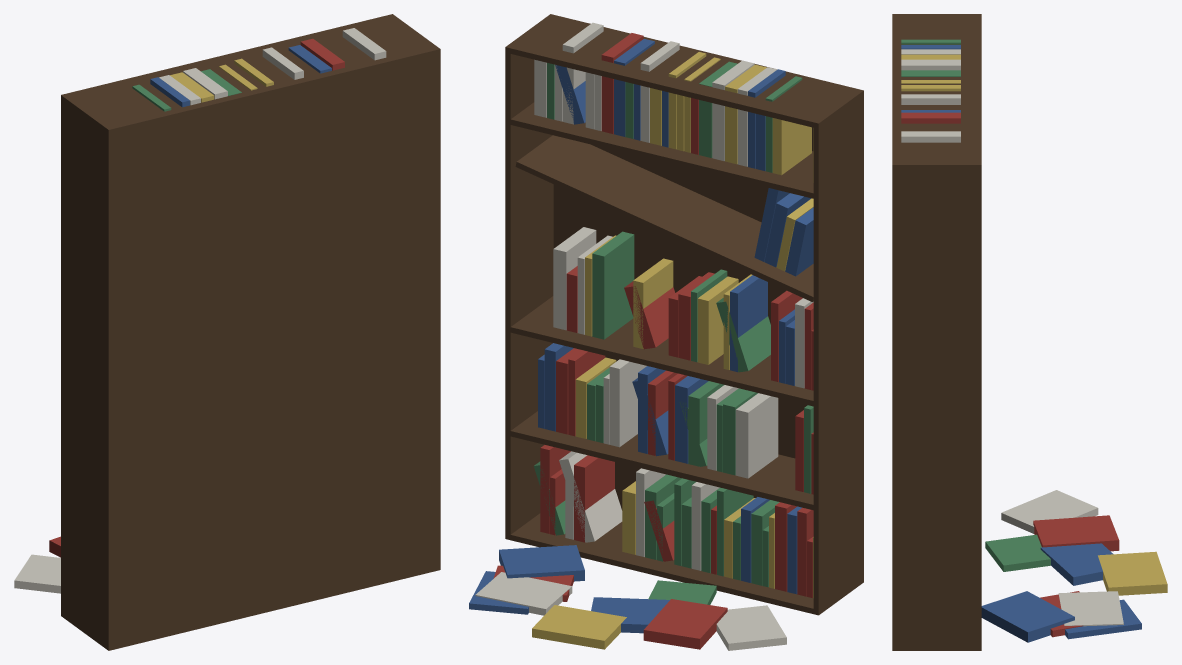
File: bookcase_broken.fbx
The picture shows the model from 3 angles, left to right: view 1: azimuth 30°, elevation 25°; view 2: azimuth 150°, elevation 25°; view 3: azimuth 270°, elevation 25°; orthographic projection. The views are drawn at different scales.
Visible parts, largest first — view 1: bookcase_broken; view 2: bookcase_broken; view 3: bookcase_broken.
Part boxes in pixels (left/top/right/bottom): bookcase_broken: left=14, top=14, right=440, bottom=650; bookcase_broken: left=469, top=14, right=863, bottom=650; bookcase_broken: left=892, top=14, right=1167, bottom=650.
Bounding box in the file's own units: 1.22 × 1.82 × 0.9237.
